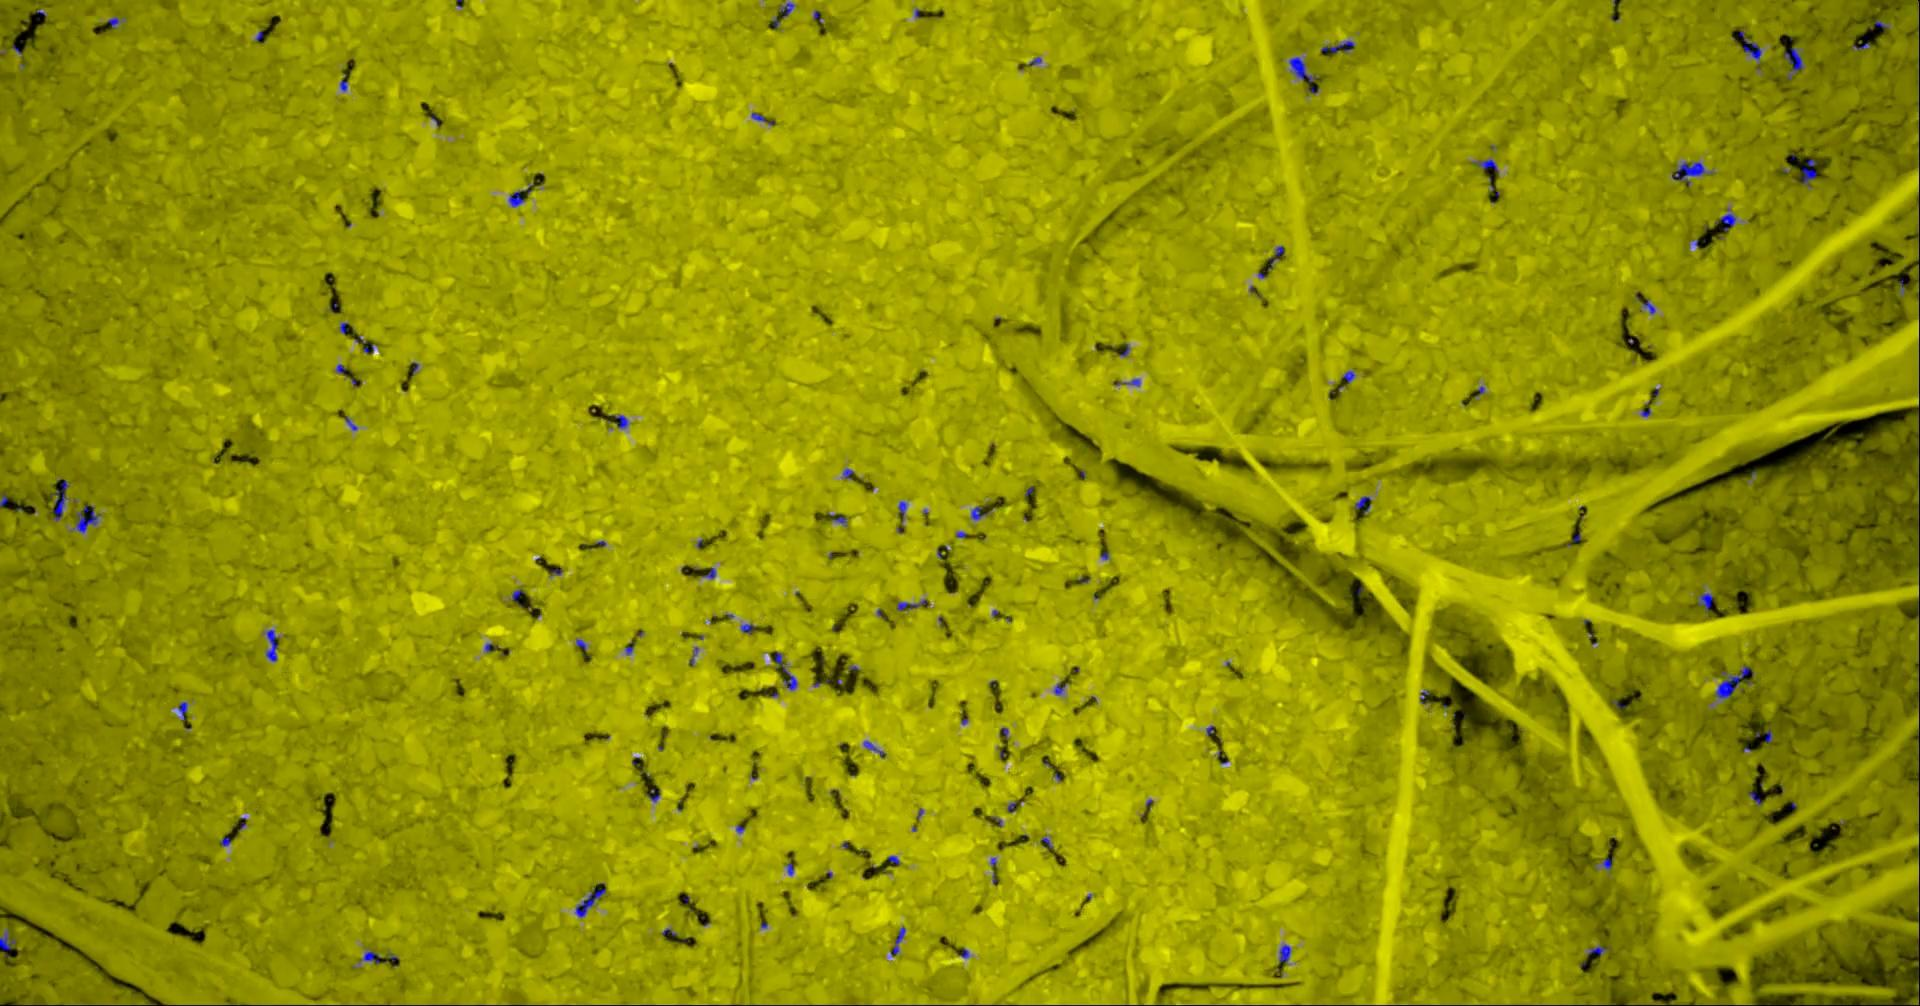ant: (1716, 666, 1752, 699), (1671, 161, 1713, 185), (575, 887, 606, 917), (1738, 30, 1761, 69), (775, 652, 797, 688), (51, 478, 69, 520), (72, 504, 98, 532), (1288, 56, 1313, 83), (508, 180, 533, 206), (1783, 46, 1802, 71), (1801, 158, 1816, 187), (890, 926, 905, 955), (1321, 39, 1354, 52), (1716, 208, 1735, 230), (0, 929, 15, 955), (265, 629, 278, 661), (1472, 159, 1498, 171), (863, 741, 884, 757), (897, 600, 927, 610), (1354, 495, 1370, 513), (1697, 592, 1712, 611), (1269, 245, 1283, 265), (778, 0, 794, 17), (610, 414, 627, 428), (1587, 945, 1609, 955), (361, 951, 380, 963), (970, 506, 985, 520), (1279, 944, 1290, 962), (178, 701, 187, 720), (648, 788, 659, 801), (1917, 502, 1919, 567)
